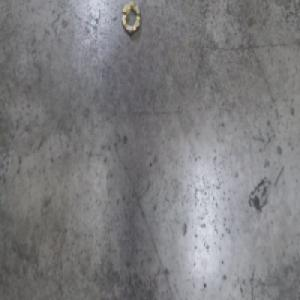Nut: (121, 0, 141, 36)
